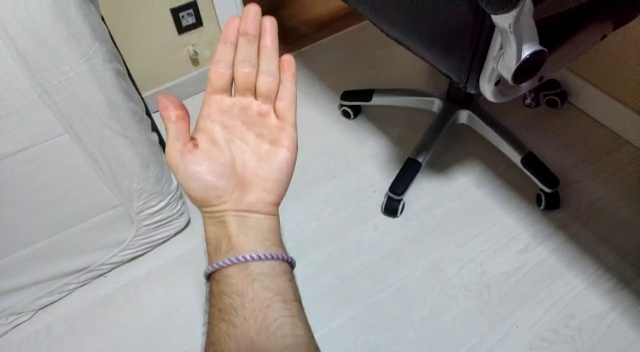Palm: (153, 2, 302, 226)
